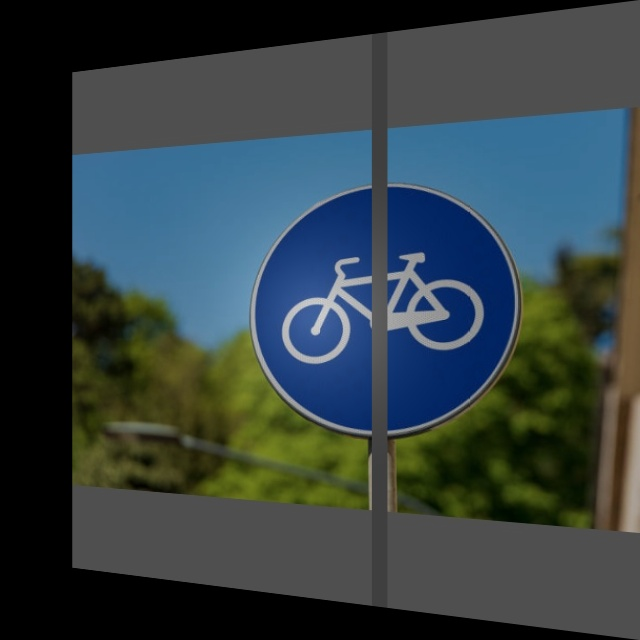Compulsory_Cycle_Track: (251, 174, 523, 447)
